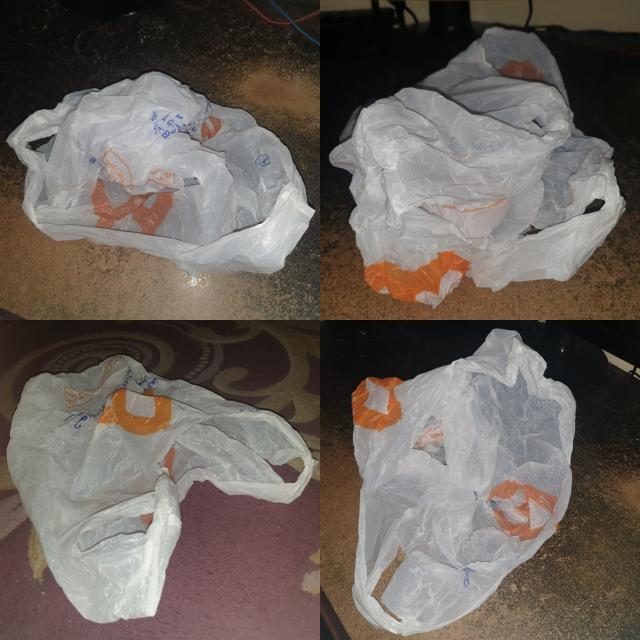Single-layer Plastic: (6, 355, 316, 622), (330, 28, 625, 307), (352, 329, 575, 634), (8, 71, 314, 275)
